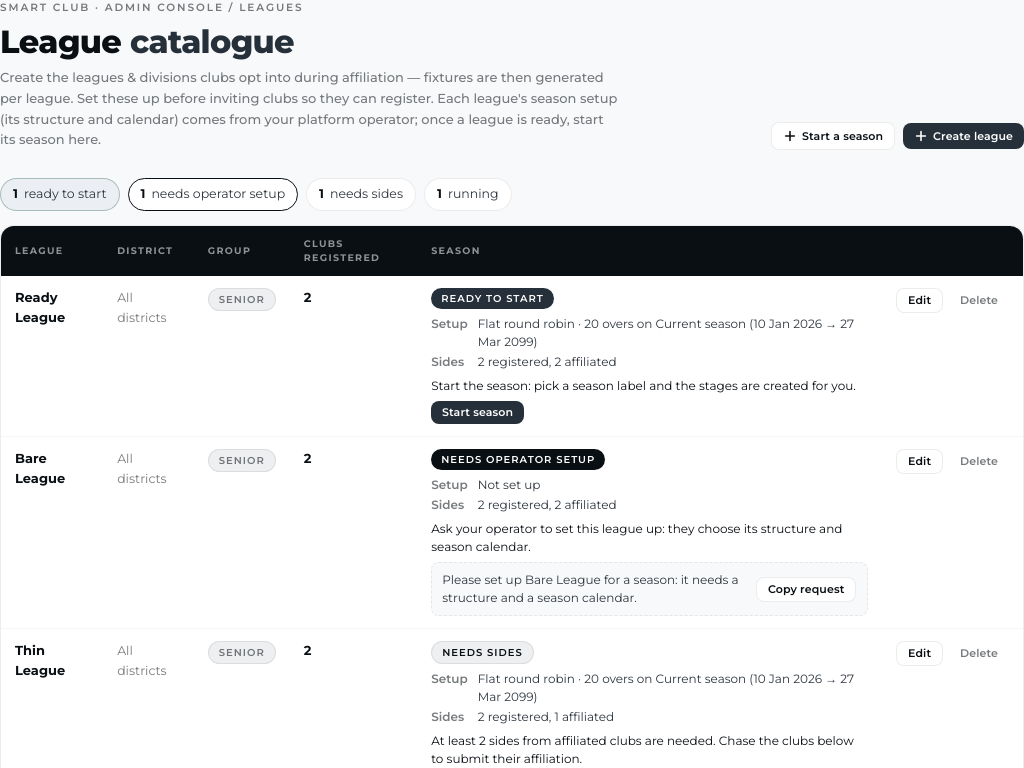
the admin Leagues page — season readiness › lists the leagues that cannot start in the modal, disabled, with their reason
Click the button "Start a season". click: x=833, y=136
box: [771,122,895,150]
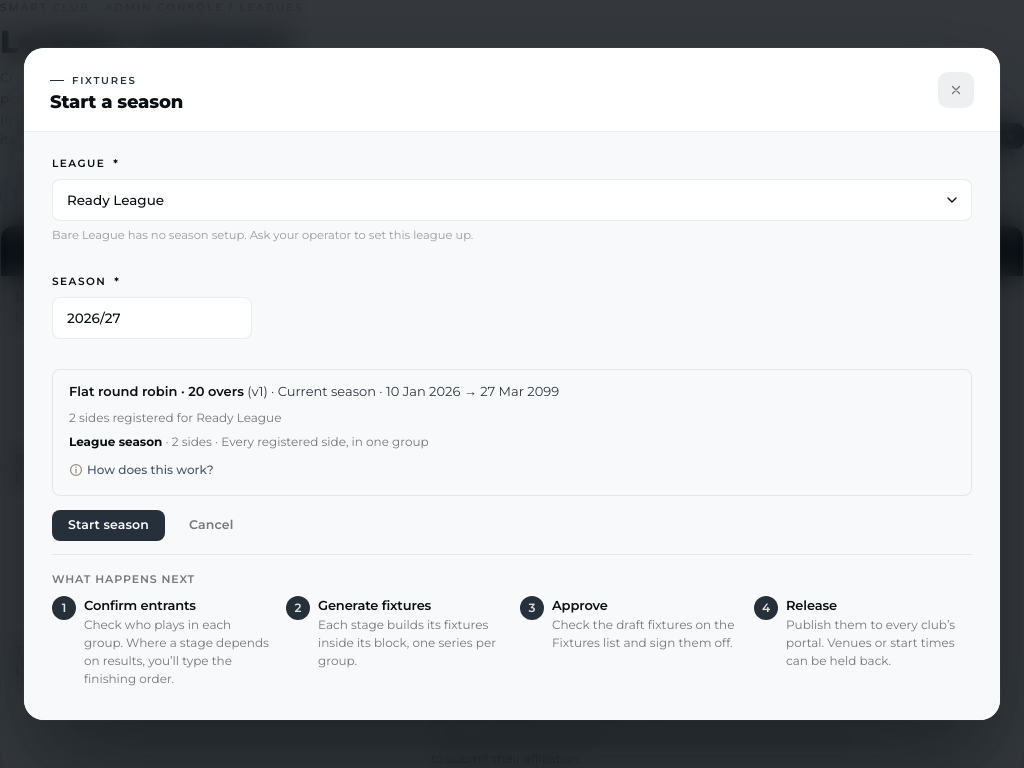
Expected: the dropdown named "League" shows "Ready League", [52,178,972,220]
